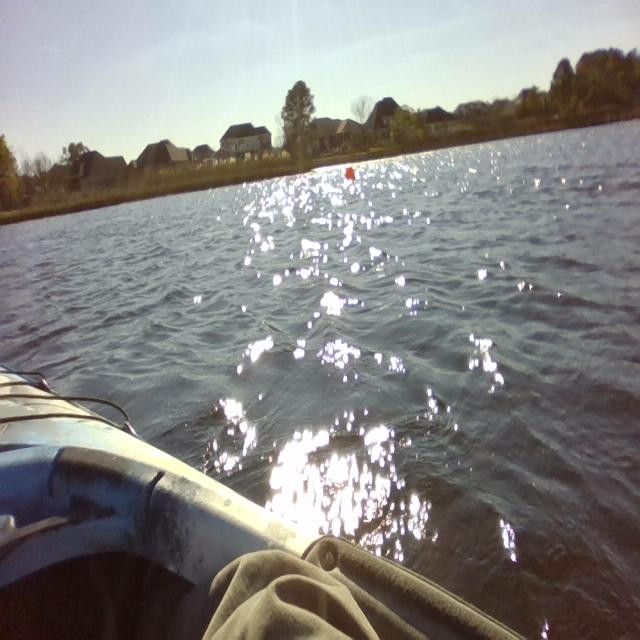Buoy: (337, 162, 362, 186)
